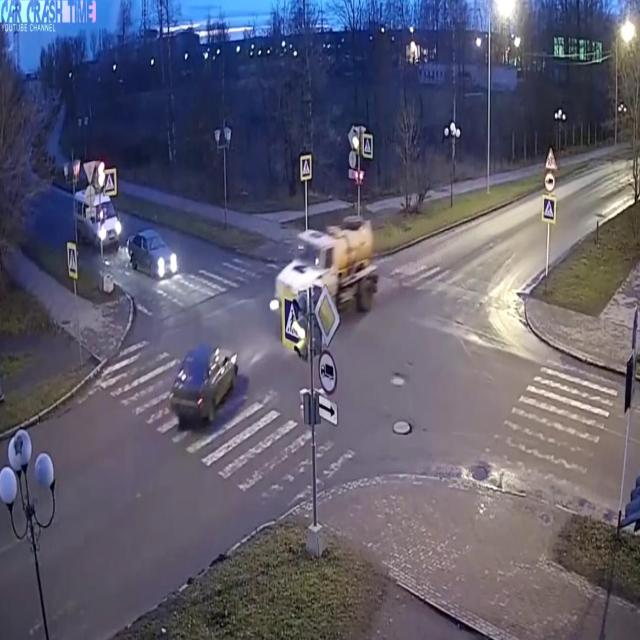non_accident: (67, 173, 185, 291)
